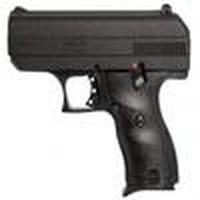gun: (5, 7, 188, 190)
